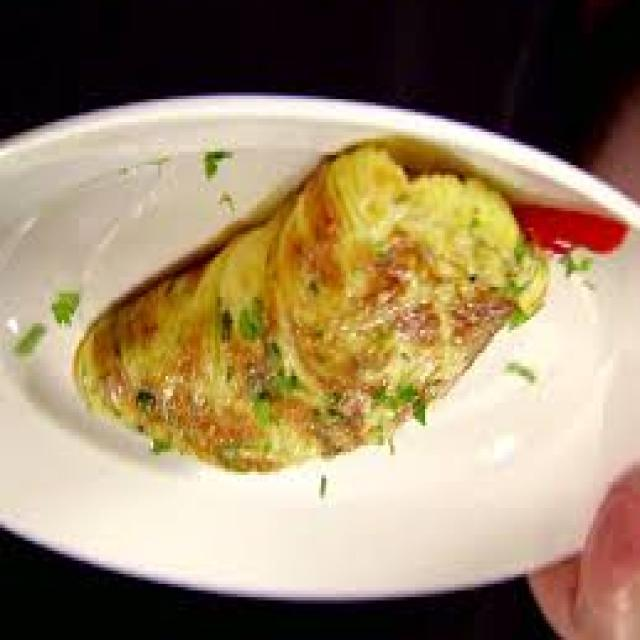telur_ayam_dadar: (71, 146, 548, 478)
